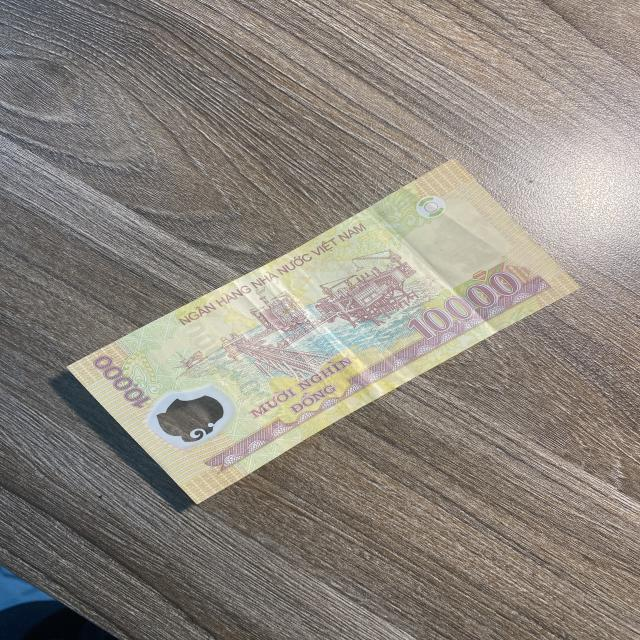10 000 VND: (62, 158, 580, 507)
